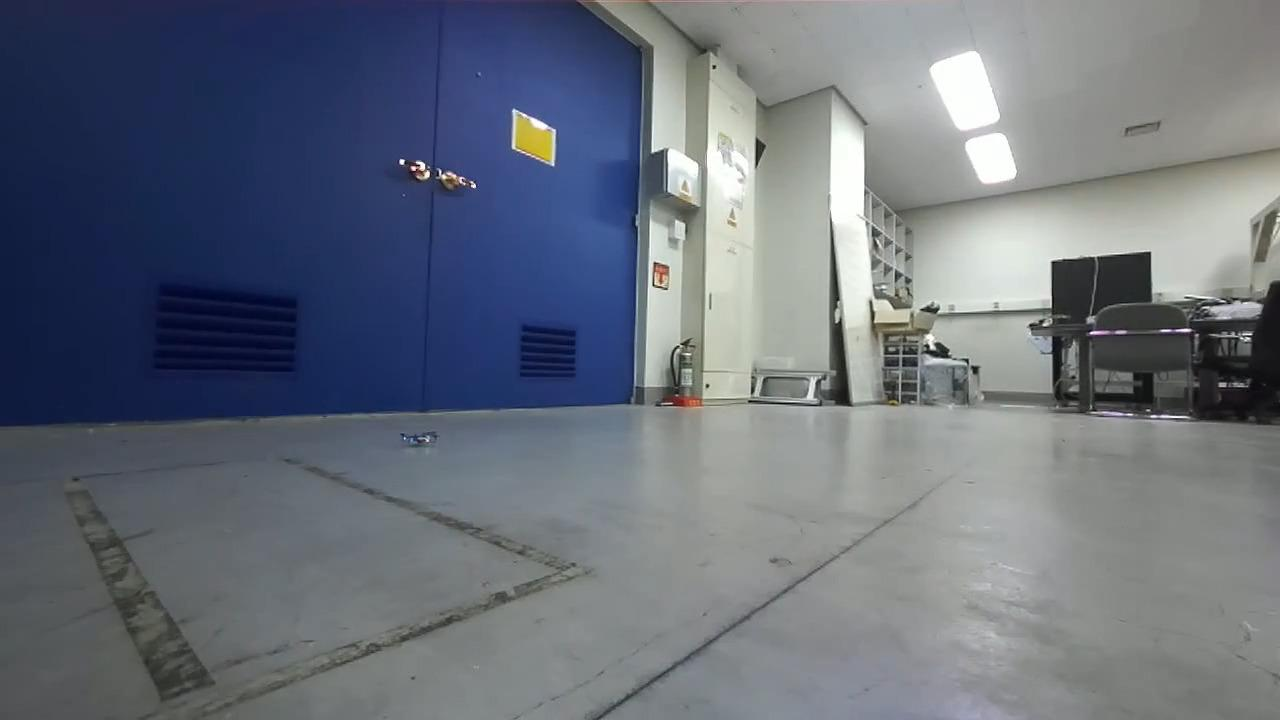crazyflie: (391, 425, 443, 452)
